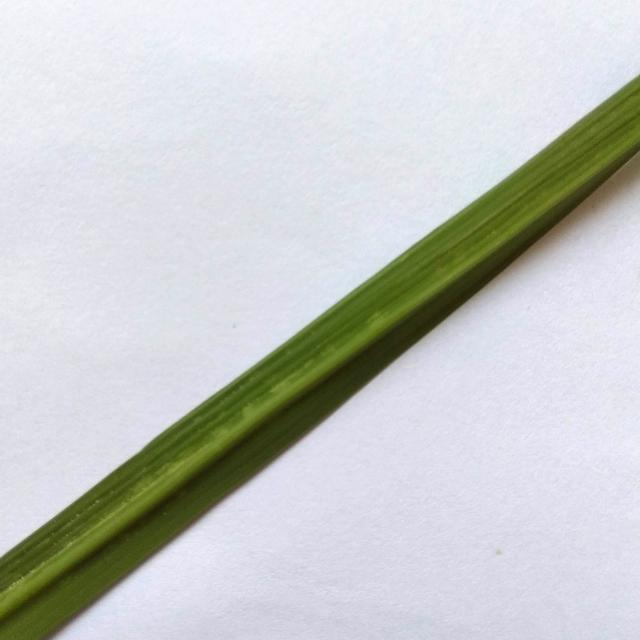Rice_Healthy: (0, 3, 640, 640), (0, 76, 640, 640)
